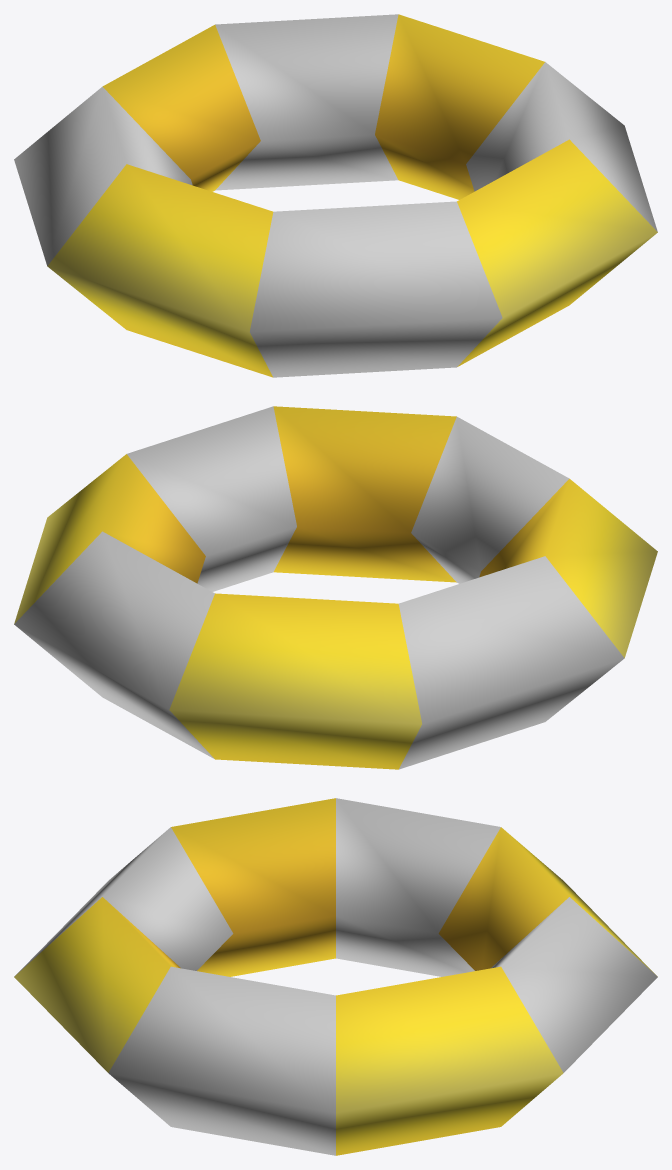
File: RubbeRing_06.FBX
3 renders of one model, top to bottom at view 1: azimuth 30°, elevation 25°; view 2: azimuth 150°, elevation 25°; view 3: azimuth 270°, elevation 25°, orthographic. The views are drawn at different scales.
Parts seen in each view (by area): view 1: RubbeRing_06; view 2: RubbeRing_06; view 3: RubbeRing_06.
Boxes of the visible parts, bbox=[...] form: RubbeRing_06: bbox=[14, 14, 657, 377]; RubbeRing_06: bbox=[14, 406, 657, 769]; RubbeRing_06: bbox=[14, 798, 657, 1155].
Bounding box in the file's own units: 0.4881 × 0.4881 × 0.1341.
